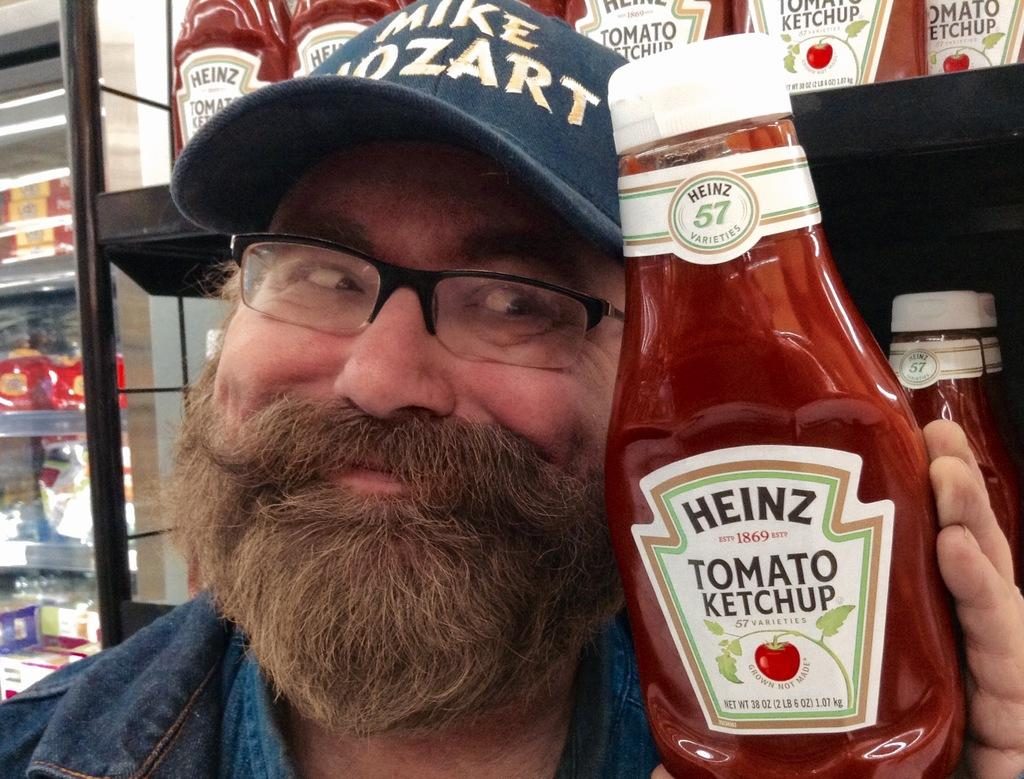Hat: (168, 0, 630, 265)
